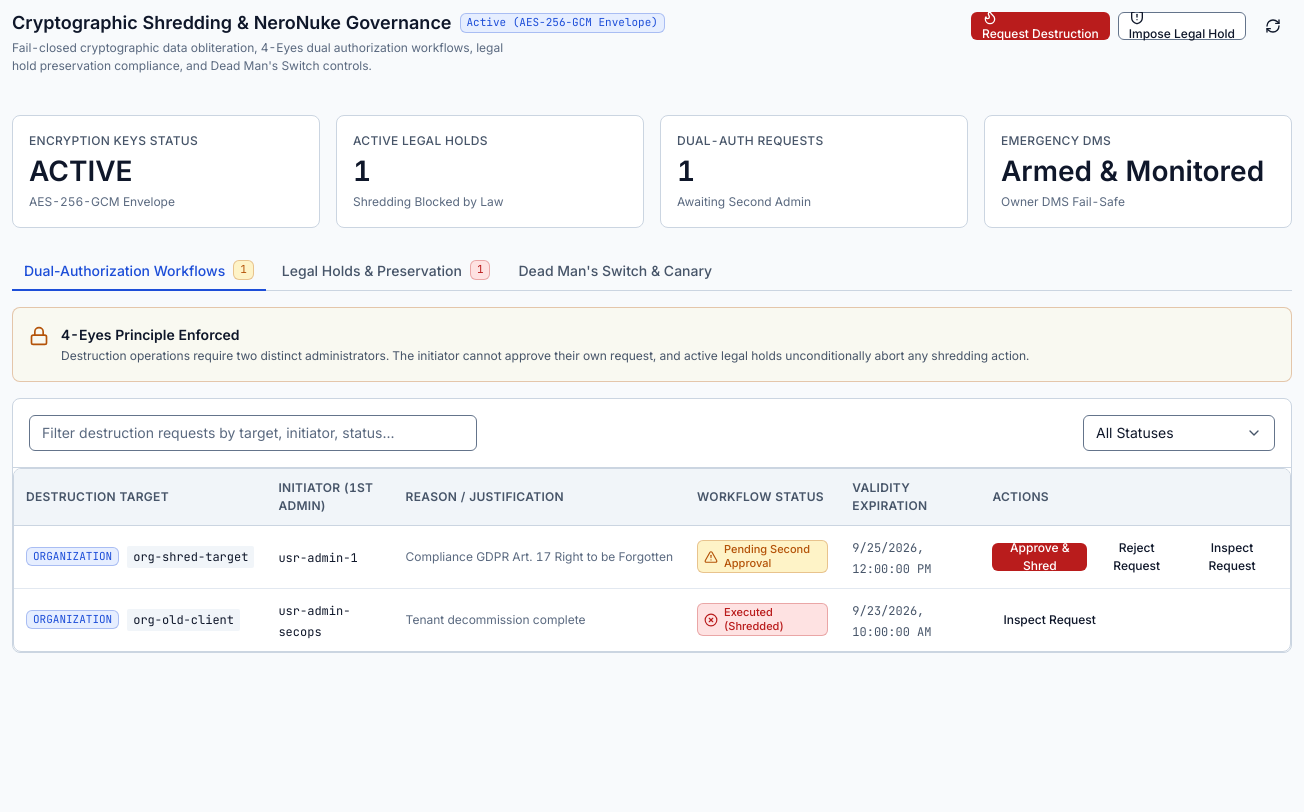
it: WP-409: NukeRoute (NeroNuke v2 Dual-Auth & Legal Hold UI) › 4. Rejects a pending dual-authorization destruction request
Expected: the text "org-shred-target" is shown, [127,546,254,568]
# Click Reject Request
Click the button "Reject Request".
click(1137, 556)  # box [1093,542,1180,570]
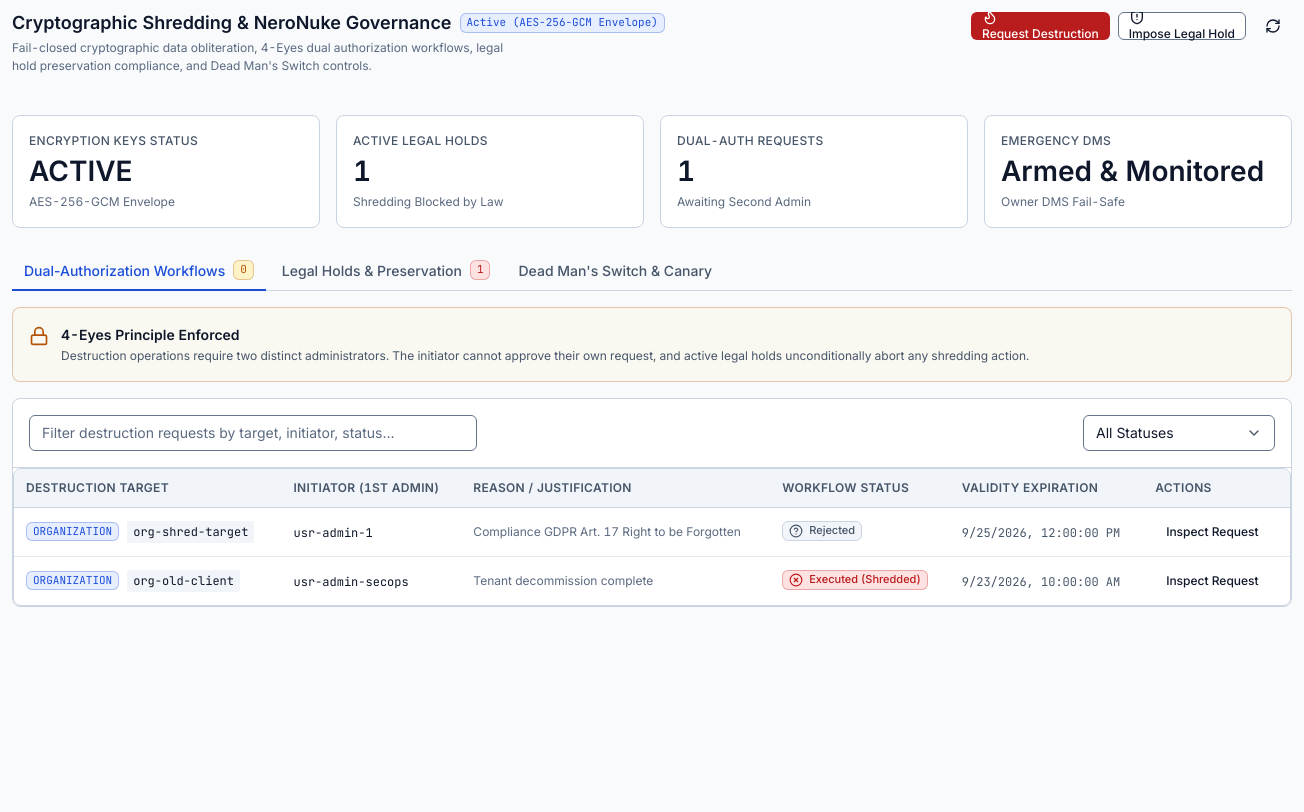
Result: the text "Rejected" is shown at [809,524,855,537]
